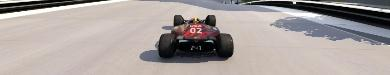Car: (157, 14, 233, 57)
obstacles-Borders: (243, 0, 389, 34)
